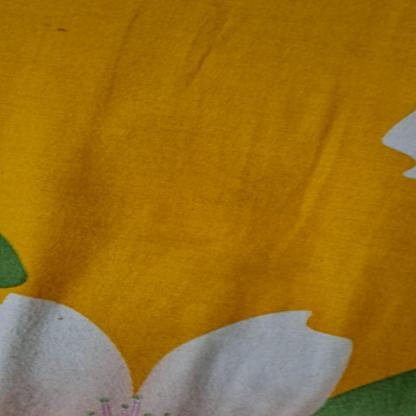spot: (49, 21, 75, 36)
